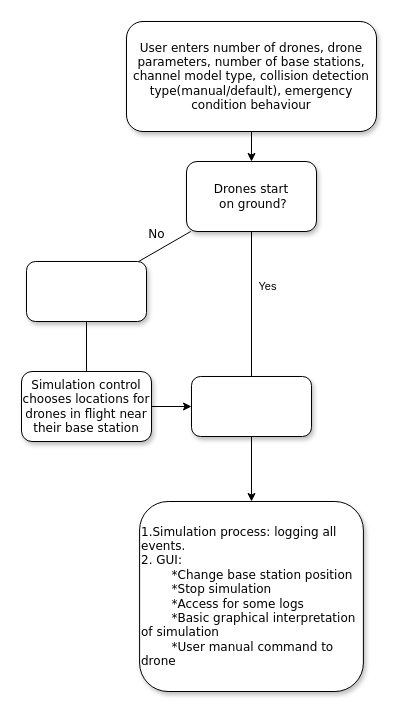
Some shapes in this 400 by 716 pixel diagram are drawn without their labels. The shapes that lost their labels are listed below. From the top down, each one's centre as x and y in pixels, then its label:
At point 87,292: "User choose number of drones in flight on each base station".
At point 252,408: "Start simulation".
